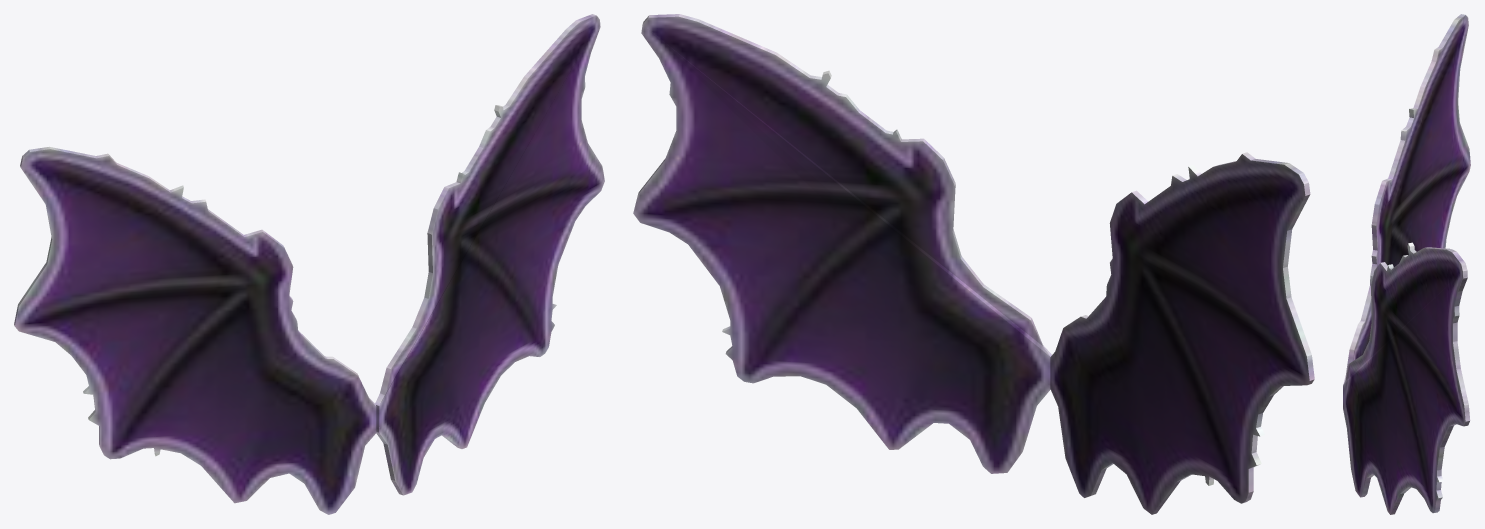
The model's file is back_bat.glb.
3 renders of one model, left to right at view 1: azimuth 30°, elevation 25°; view 2: azimuth 150°, elevation 25°; view 3: azimuth 270°, elevation 25°, orthographic. The views are drawn at different scales.
Parts seen in each view (by area): view 1: back_bat_q; view 2: back_bat_q; view 3: back_bat_q.
Part boxes in pixels (x1,y1,x2,y2): back_bat_q: (14,14,604,514); back_bat_q: (633,14,1314,514); back_bat_q: (1343,14,1470,514).
Size of the model in its own units: 6.14 by 3.8 by 1.28.
1 material, 1 textured.
